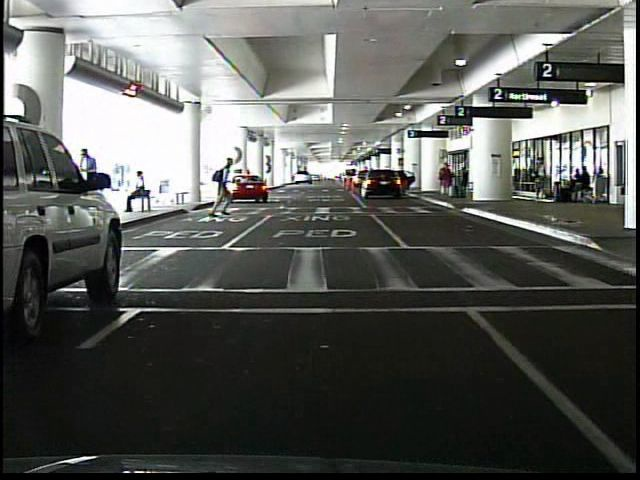person: (203, 157, 239, 219), (80, 147, 107, 216), (127, 168, 152, 215), (438, 162, 456, 199), (535, 154, 549, 201), (460, 164, 461, 198)
